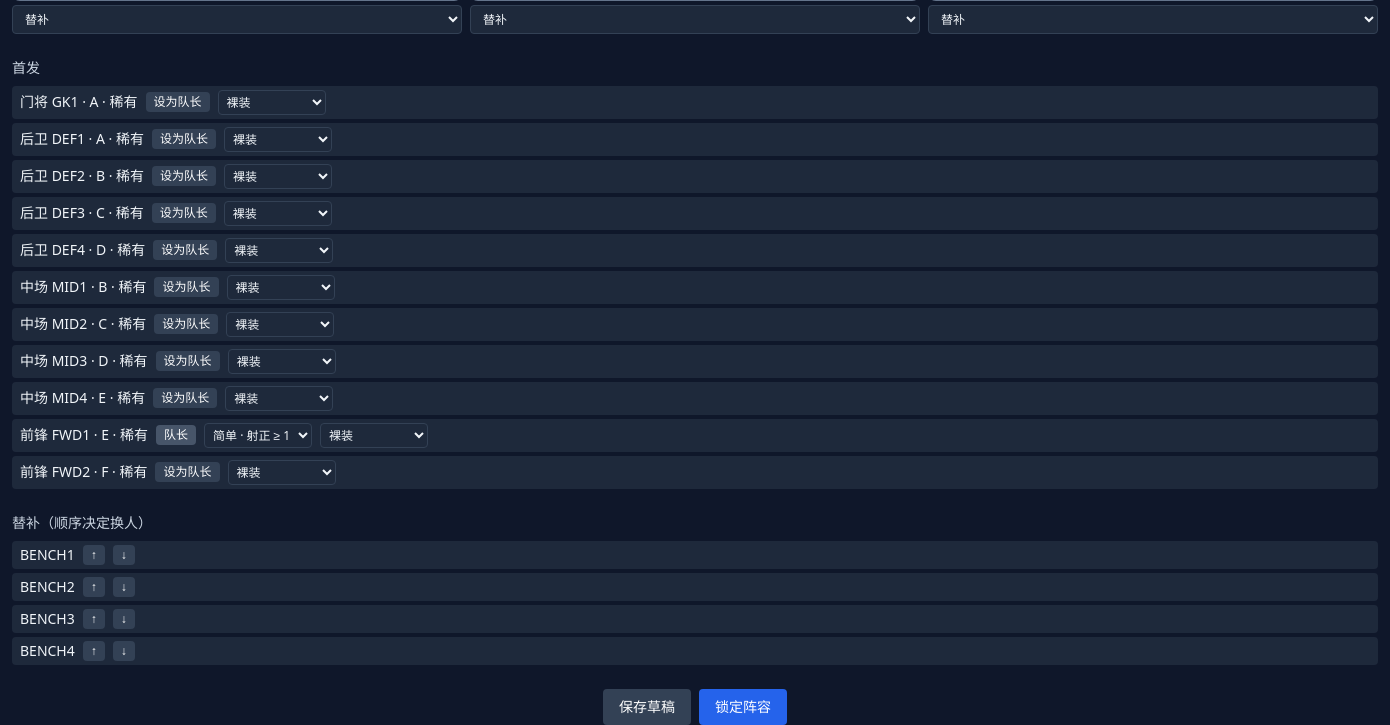
it: LineupBuilder › locks a legal lineup and disables further changes
(page scrolled)
Click the button "锁定阵容" at (743, 706), box x1=699 y1=688 x2=787 y2=724
(page scrolled)
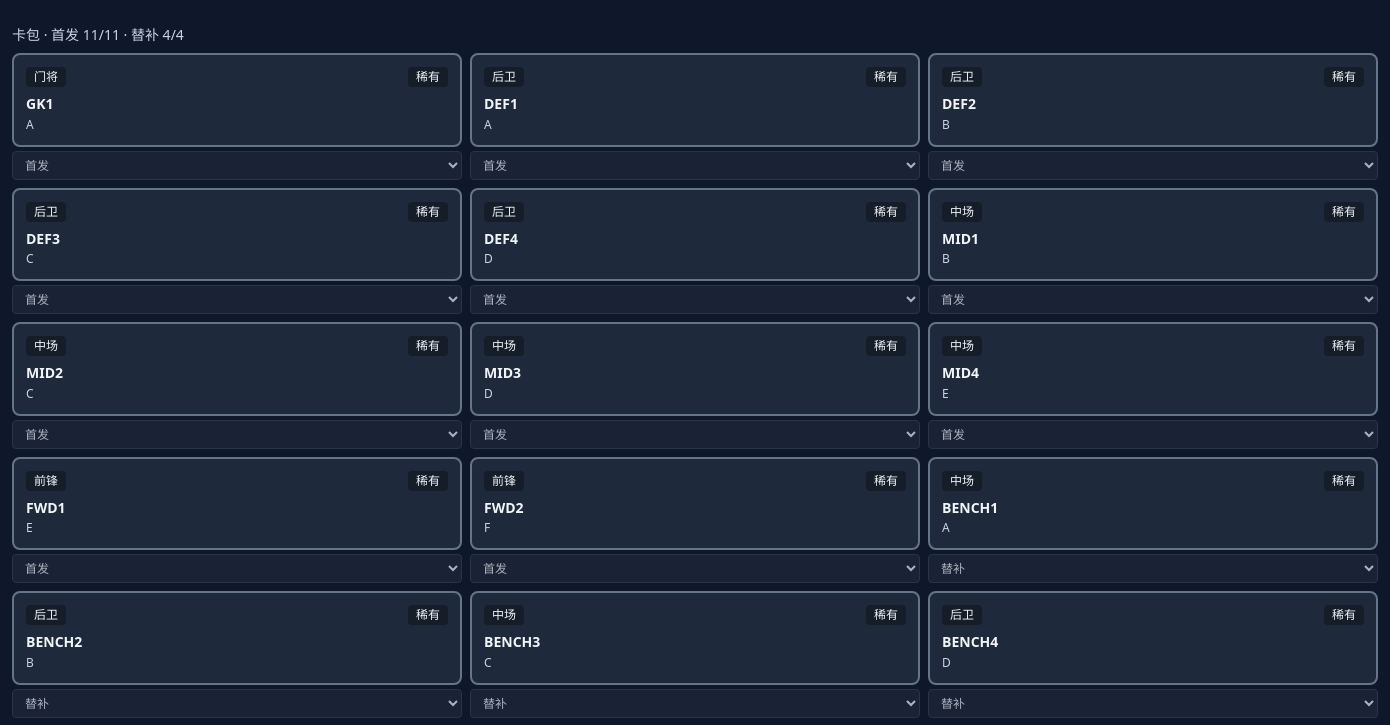
Expected: the dropdown named "安排 GK1" is disabled, x1=12 y1=150 x2=462 y2=180
